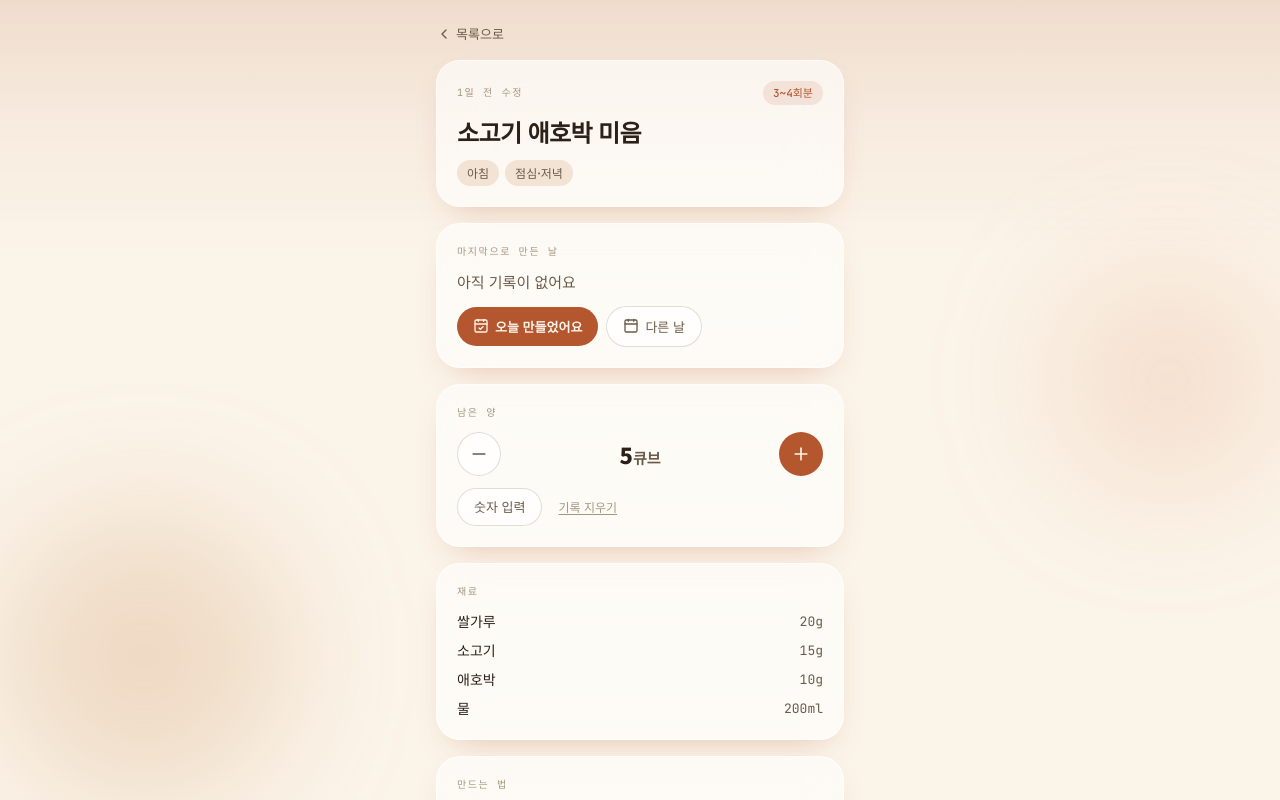
it: RecipeDetailScreen › clears how much is left
Step 1. Click the button with aria-label "남은 양 기록 지우기" → (588, 507), box [550,488,625,526]
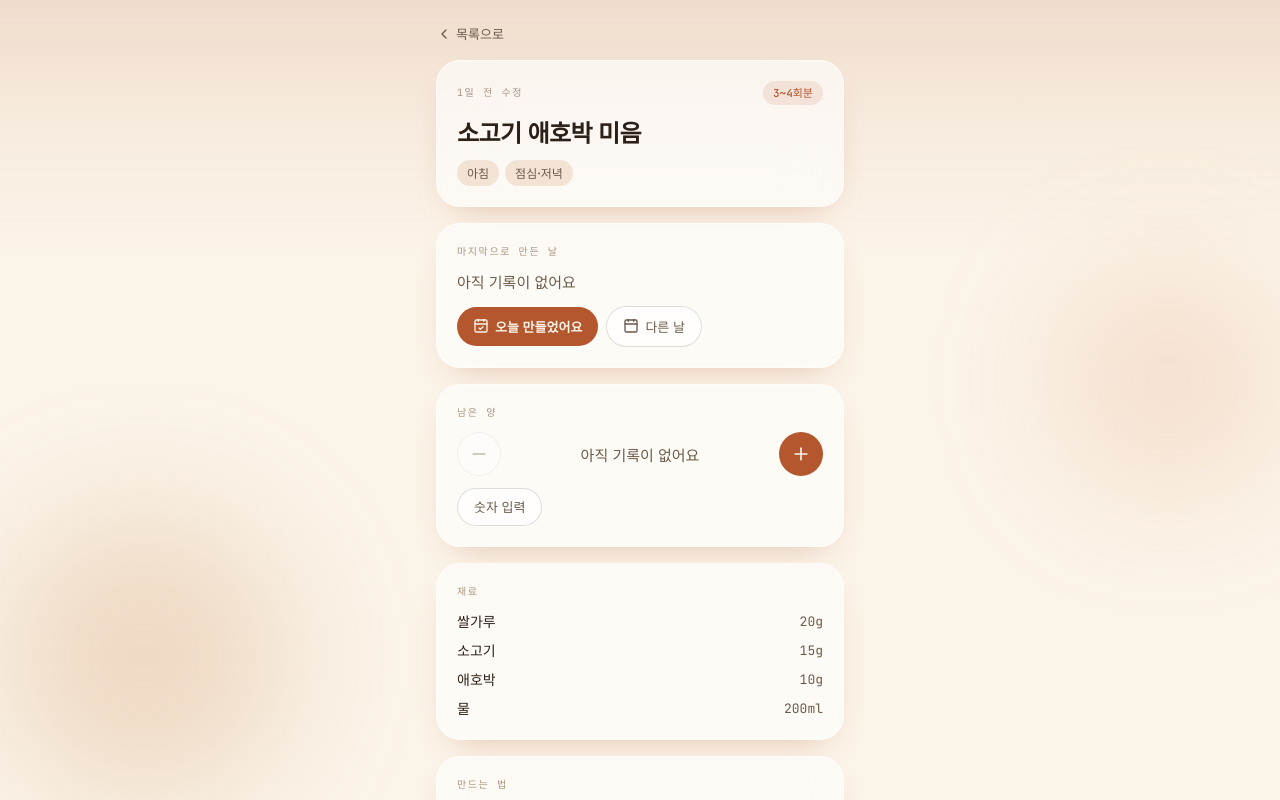
Now the element with test id "leftover" reads "아직 기록이 없어요", box [581,444,699,465]
